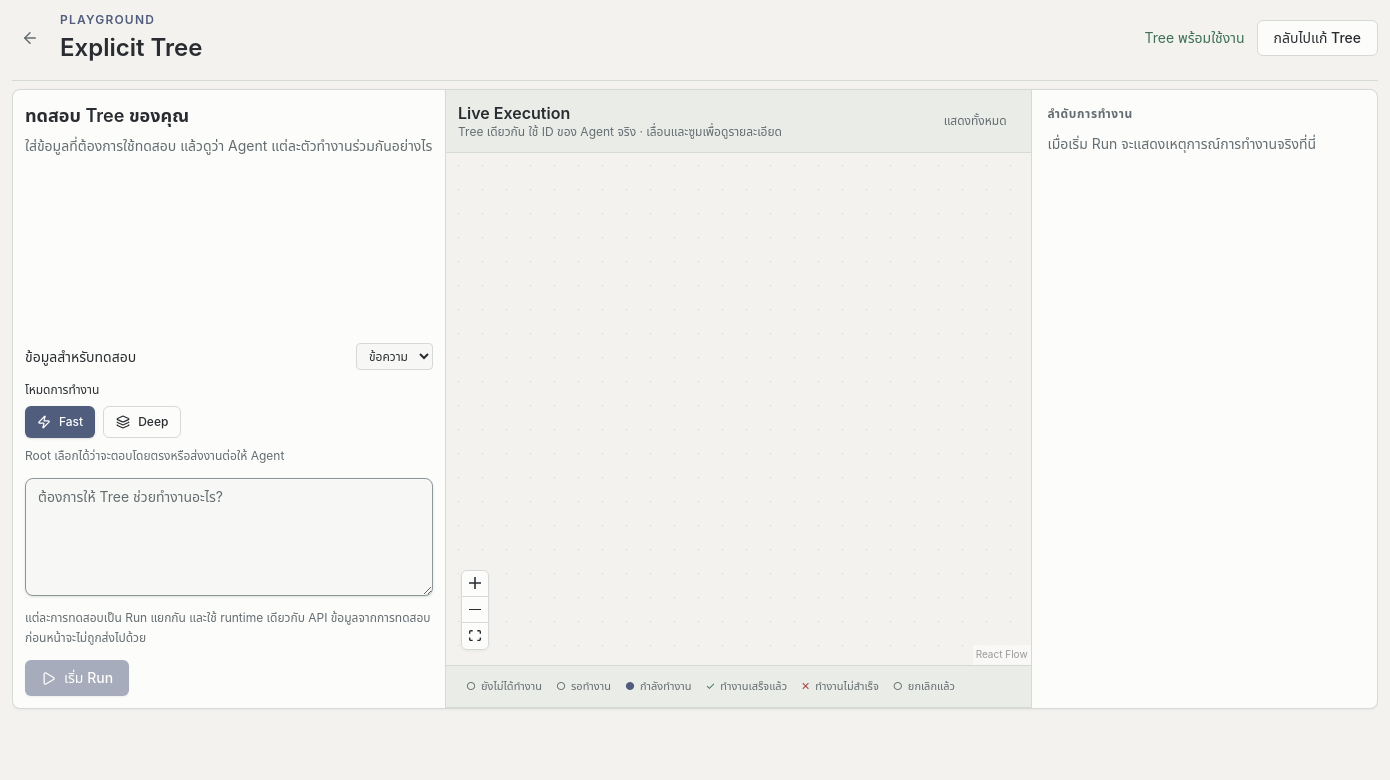
Test: Thai mode keeps Fast/Deep and Agent hierarchy terms recognizable
The width and height of the screenshot is (1390, 780).
Expected: the heading "Explicit Tree" is shown, [60,33,202,62]
Expected: the button "Fast" is shown, [25,406,95,438]
Click the button "Deep" at (142, 422), box [103,406,181,438]
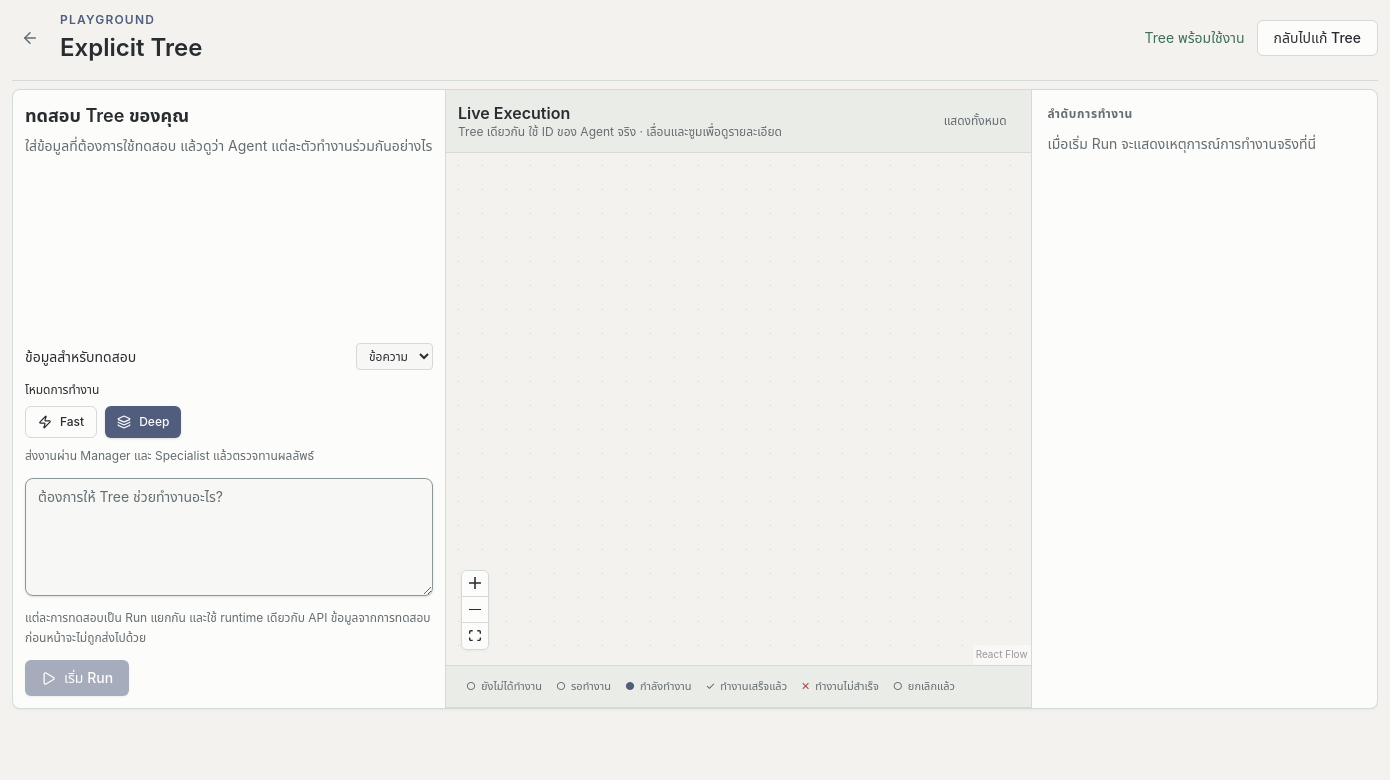
Now the text "ส่งงานผ่าน Manager และ Specialist แล้วตรวจทานผลลัพธ์" is shown, box [25,448,314,463]
